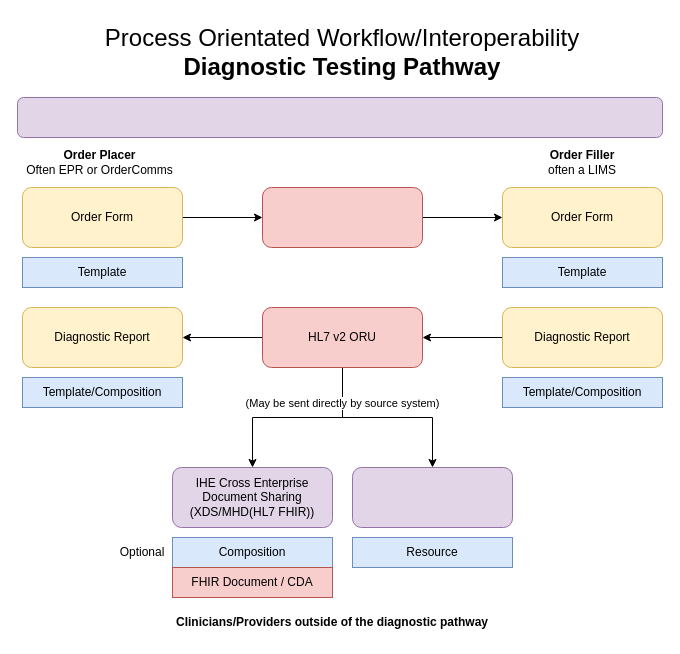
Image size: 680x654. Some labels were removed from this diagram. The centre of each missing label's shape, as x and y in pixels:
HL7 v2 ORM/OML/OMI: pixel 342 217
IHE Laboratory and Testing Workflow (LTW): pixel 339 117
IHE Query for Existing Data (HL7 FHIR): pixel 432 497
